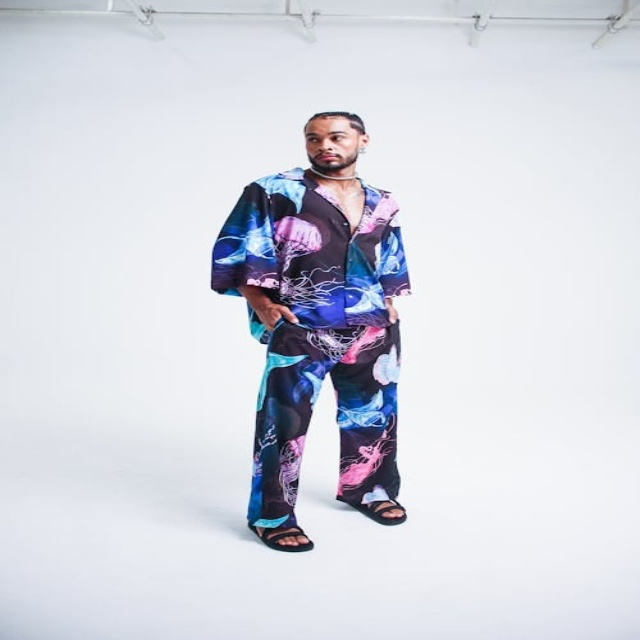Sin_gafas: (303, 126, 355, 144)
Sin_mascara: (310, 150, 346, 169)
